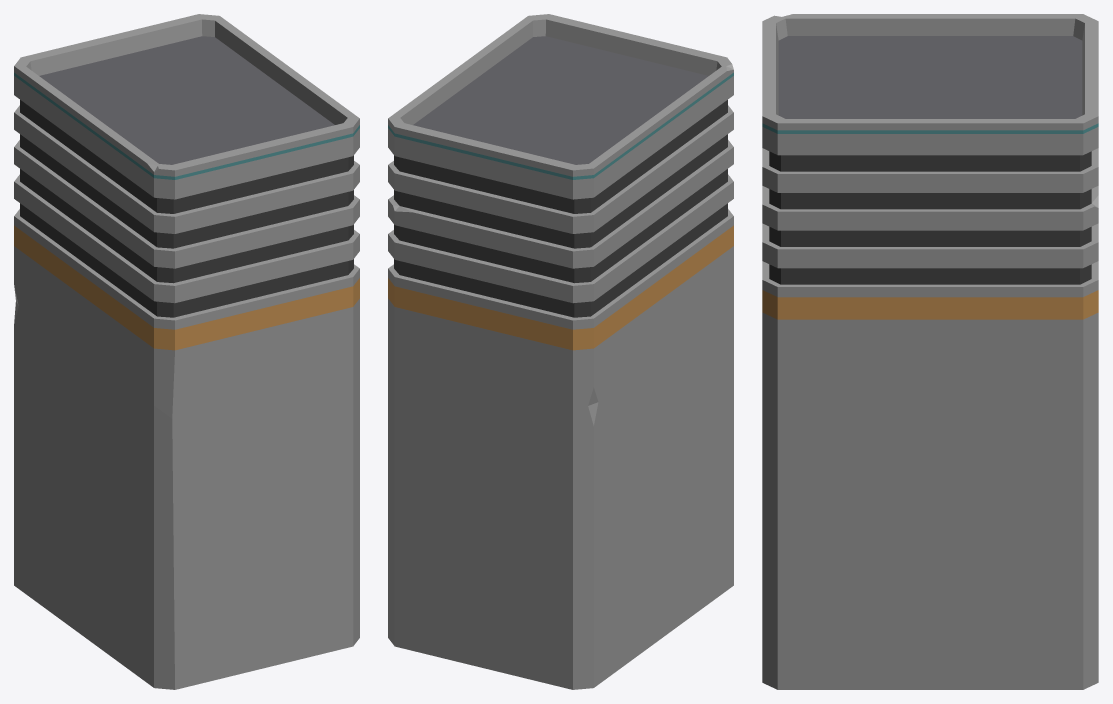
File: city_SM_Bld_Large_Part_06.gltf
The picture shows the model from 3 angles, left to right: view 1: azimuth 30°, elevation 25°; view 2: azimuth 150°, elevation 25°; view 3: azimuth 270°, elevation 25°; orthographic projection. The views are drawn at different scales.
Parts seen in each view (by area): view 1: SM_Bld_Large_Part_06; view 2: SM_Bld_Large_Part_06; view 3: SM_Bld_Large_Part_06.
Part boxes in pixels (x1=…): SM_Bld_Large_Part_06: x1=14, y1=14, x2=359, y2=689; SM_Bld_Large_Part_06: x1=388, y1=14, x2=733, y2=689; SM_Bld_Large_Part_06: x1=762, y1=14, x2=1098, y2=689.
Bounding box in the file's own units: 7.41 × 17.89 × 9.63.
Materials: 1 (1 with a texture image).
